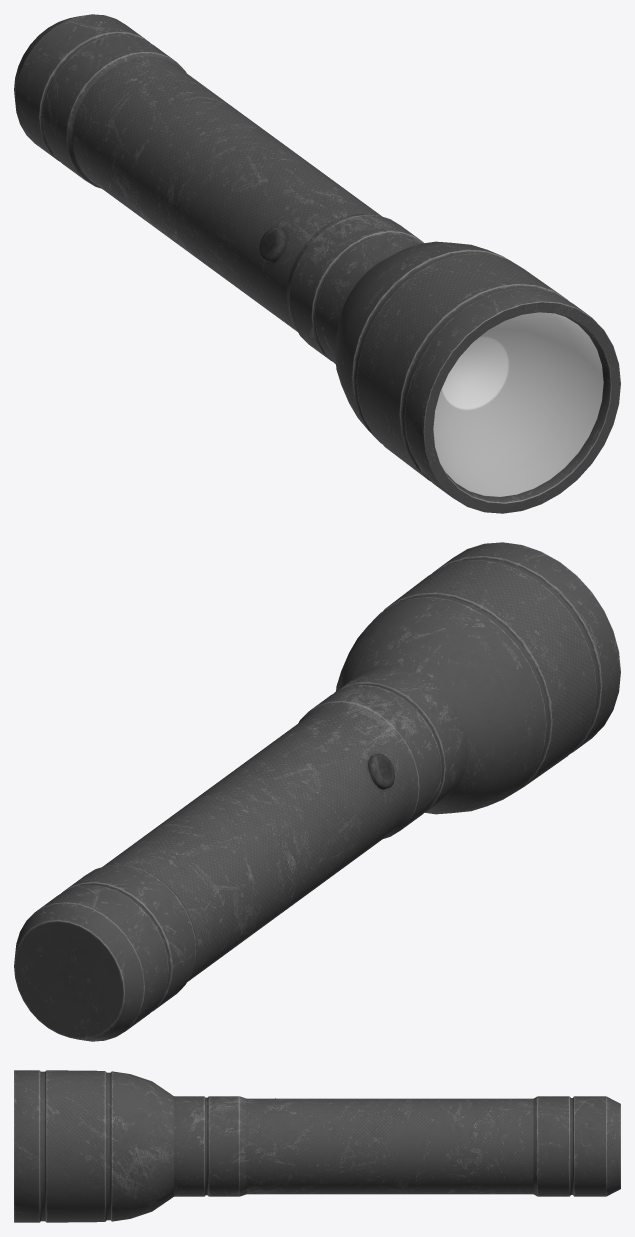
3 views of the same model, one above another, from view 1: azimuth 30°, elevation 25°; view 2: azimuth 150°, elevation 25°; view 3: azimuth 270°, elevation 25° (orthographic). The views are drawn at different scales.
Parts seen in each view (by area): view 1: Flashlight; view 2: Flashlight; view 3: Flashlight.
Part boxes in pixels (box(x1,y1,x2,y2)): Flashlight: box(14, 14, 620, 513); Flashlight: box(14, 542, 620, 1041); Flashlight: box(14, 1070, 620, 1222).
Size of the model in its own units: 25.15 by 25.15 by 100.
Materials: 2 (2 with a texture image).
